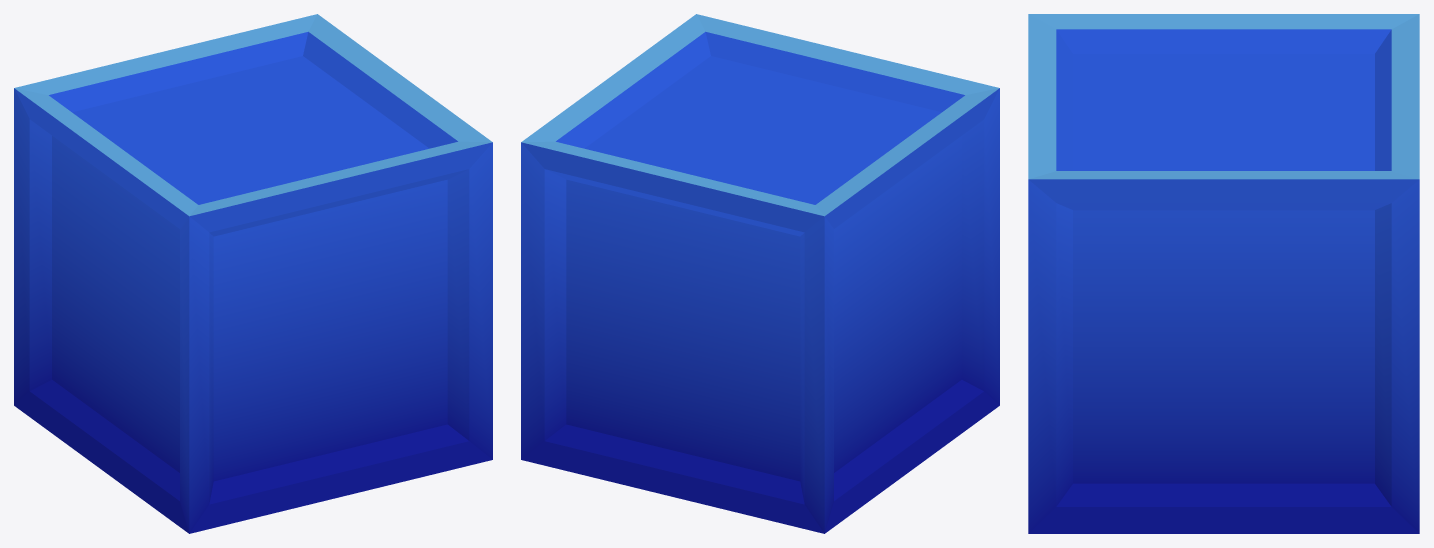
The model's file is vertexSelection.gltf.
The picture shows the model from 3 angles, left to right: view 1: azimuth 30°, elevation 25°; view 2: azimuth 150°, elevation 25°; view 3: azimuth 270°, elevation 25°; orthographic projection. The views are drawn at different scales.
Visible parts, largest first — view 1: Cube; view 2: Cube; view 3: Cube.
Boxes of the visible parts, x1,y1,x2,y2 form: Cube: (14,14,492,533); Cube: (521,14,999,533); Cube: (1028,14,1419,533).
Size of the model in its own units: 2 by 2 by 2.
